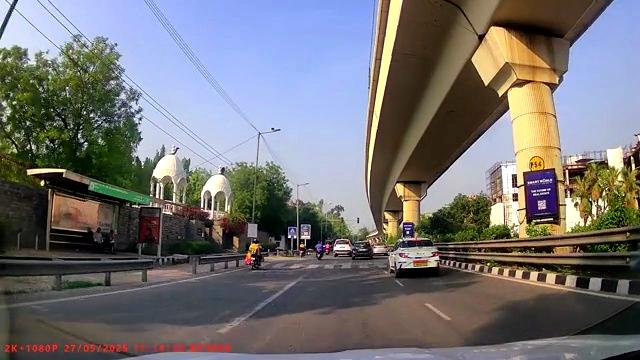motorcycle_with_helmet: (244, 237, 266, 271)
